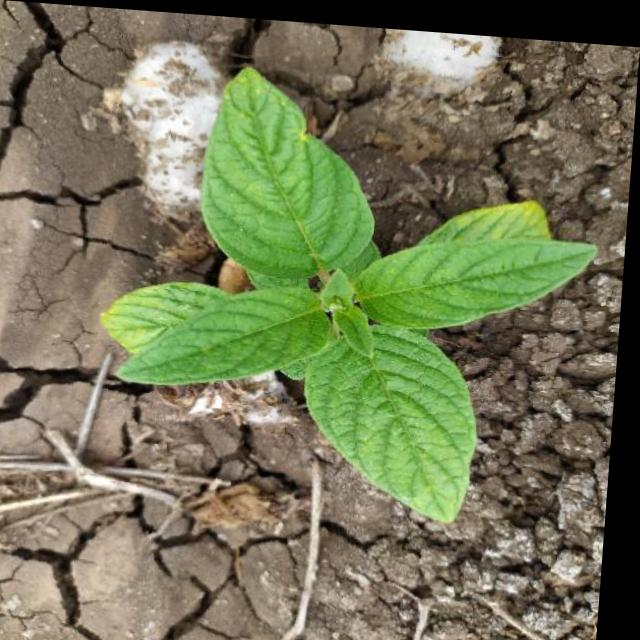crop: (81, 60, 606, 534)
